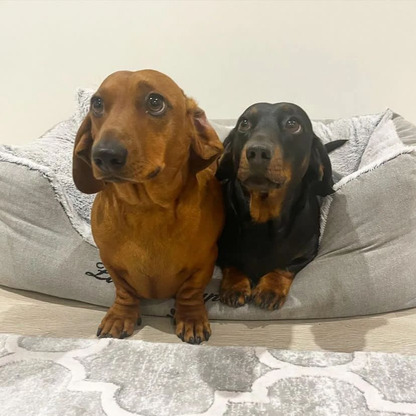dachshund: (57, 67, 216, 331), (219, 97, 361, 342)
